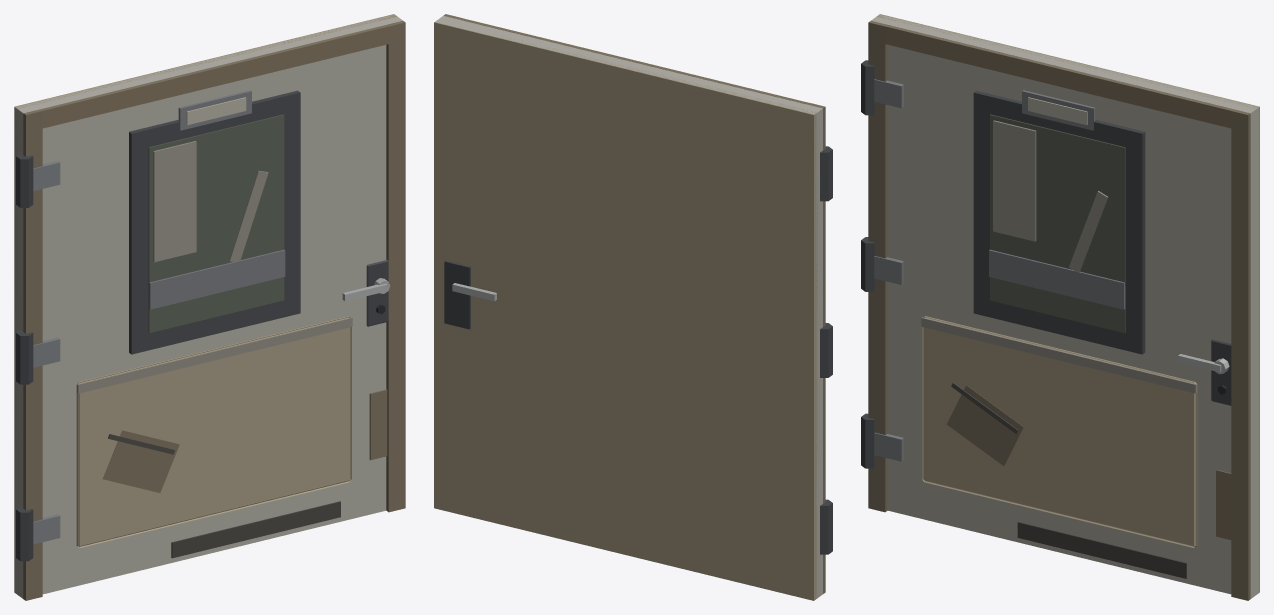
Rendered from bld_door_office.fbx.
The picture shows the model from 3 angles, left to right: view 1: azimuth 30°, elevation 25°; view 2: azimuth 150°, elevation 25°; view 3: azimuth 330°, elevation 25°; orthographic projection.
Parts seen in each view (by area): view 1: bld_door_office; view 2: bld_door_office; view 3: bld_door_office.
Part boxes in pixels (<box>): bld_door_office: <box>14,14,405,600</box>; bld_door_office: <box>434,14,832,600</box>; bld_door_office: <box>861,14,1259,600</box>.
Size of the model in its own units: 1.83 by 2.2 by 0.175.
